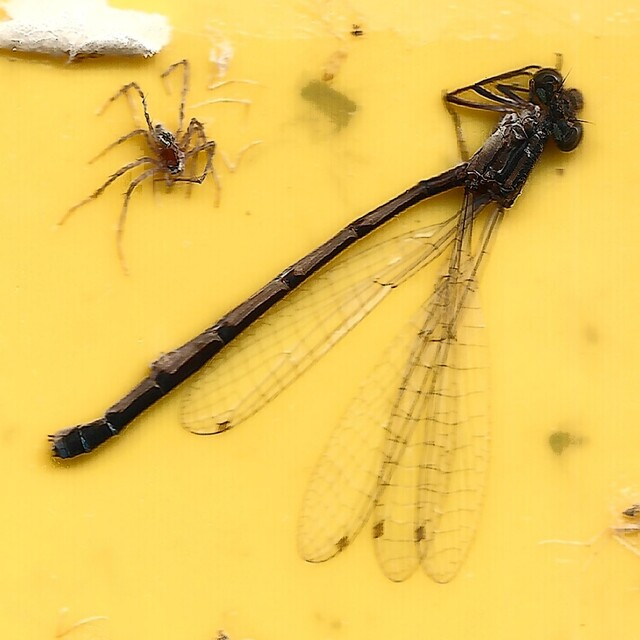Araneae: (65, 58, 221, 267)
Odonata: (49, 56, 591, 584)
